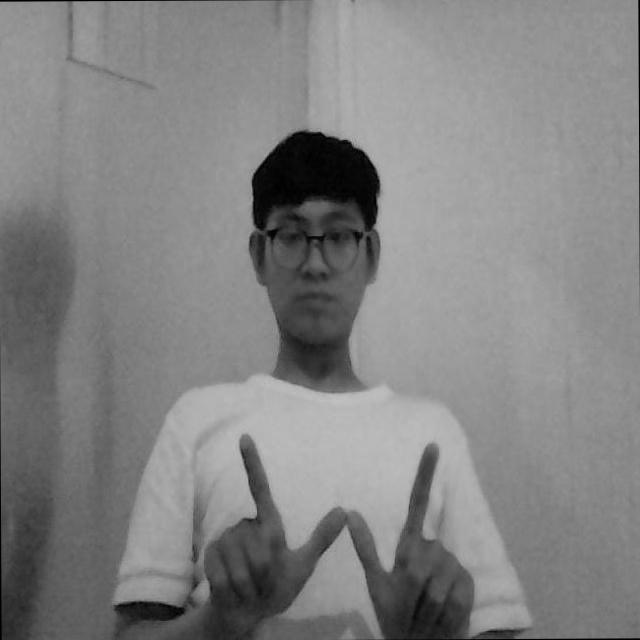W: (199, 417, 485, 640)
